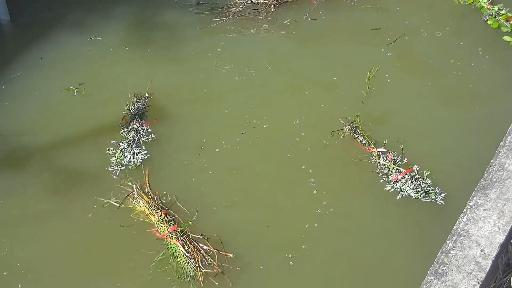leaf: (50, 74, 93, 110)
twig: (354, 58, 456, 219), (110, 177, 250, 288), (82, 81, 154, 181), (186, 0, 335, 35), (452, 0, 512, 36)
